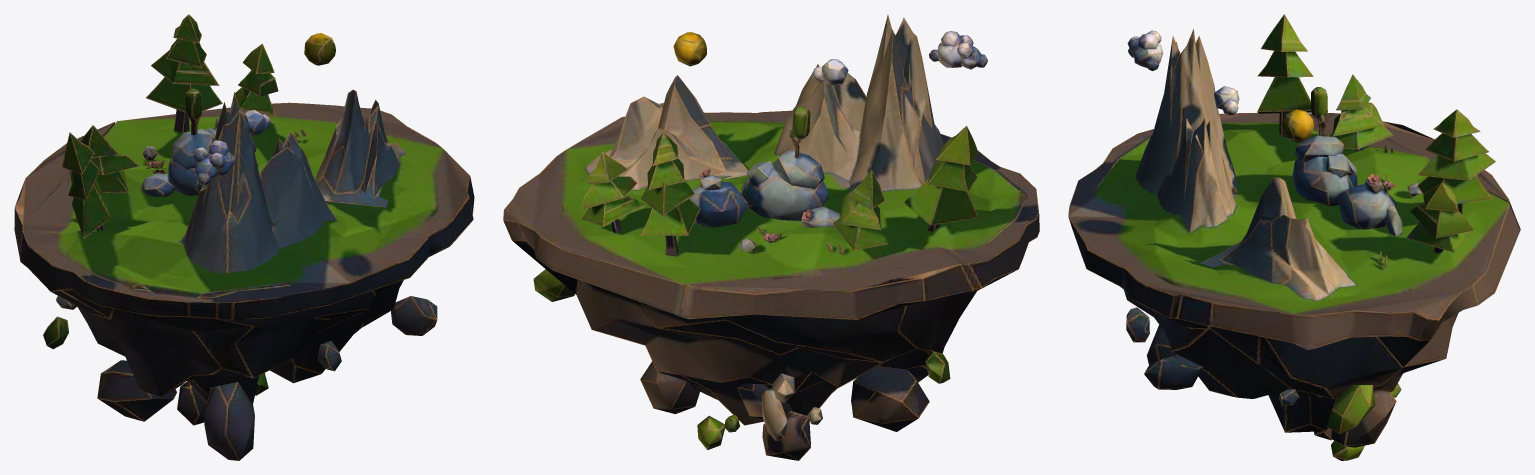
The model's file is isla_terra.glb.
3 renders of one model, left to right at view 1: azimuth 30°, elevation 25°; view 2: azimuth 150°, elevation 25°; view 3: azimuth 270°, elevation 25°, orthographic. The views are drawn at different scales.
Visible parts, largest first — view 1: Object_2; view 2: Object_2; view 3: Object_2.
Boxes of the visible parts, <box> form: Object_2: <box>14,14,474,460</box>; Object_2: <box>503,15,1039,460</box>; Object_2: <box>1068,14,1520,460</box>.
Size of the model in its own units: 307 by 265 by 278.
Materials: 1 (1 with a texture image).
